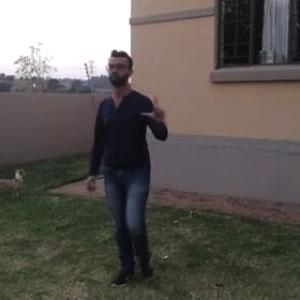land_hand: (142, 91, 174, 129)
